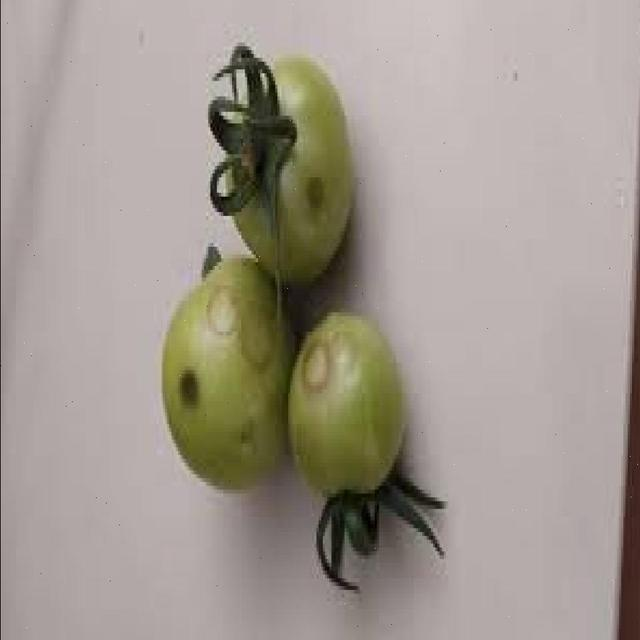Spotted wilt Virus Fruit: (111, 67, 274, 314)
